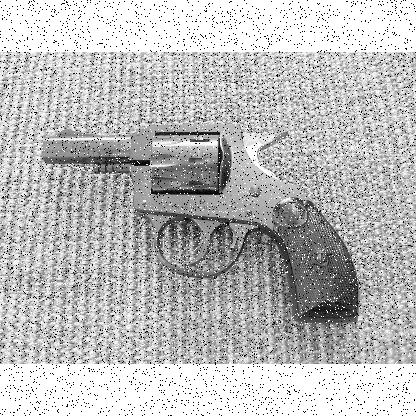gun: (41, 122, 358, 322)
